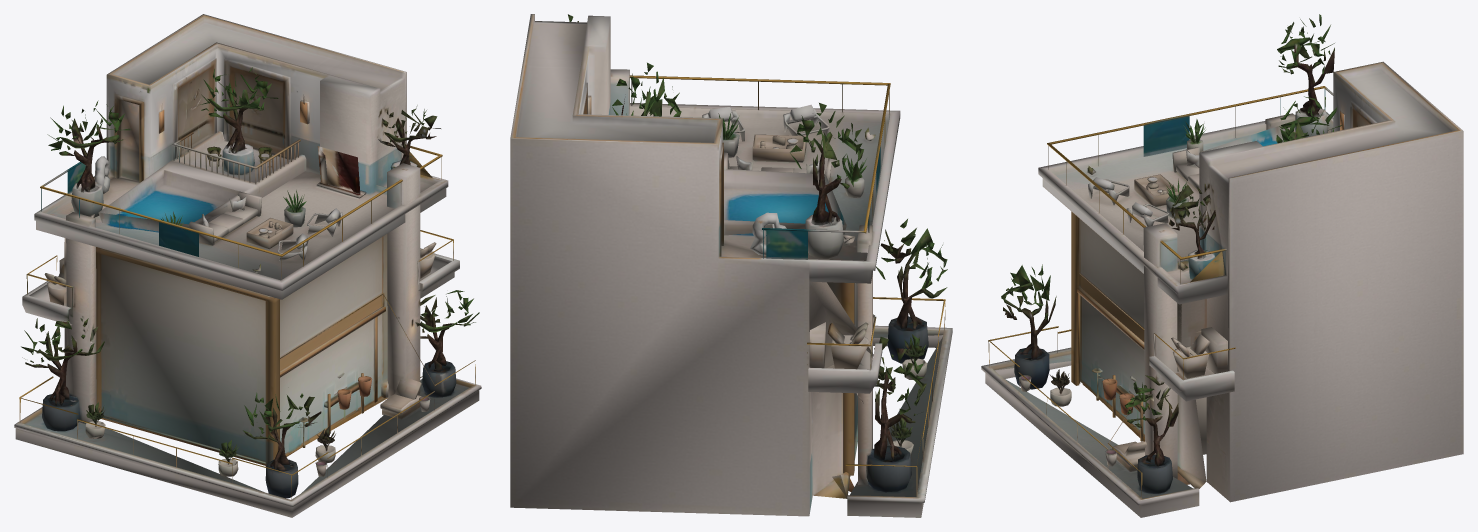
Rendered from tier4.glb.
The picture shows the model from 3 angles, left to right: view 1: azimuth 30°, elevation 25°; view 2: azimuth 150°, elevation 25°; view 3: azimuth 270°, elevation 25°; orthographic projection. The views are drawn at different scales.
Visible parts, largest first — view 1: tripo_node_b06de0a2-eb36-4b9d-8cd9-e53bd1b69414; view 2: tripo_node_b06de0a2-eb36-4b9d-8cd9-e53bd1b69414; view 3: tripo_node_b06de0a2-eb36-4b9d-8cd9-e53bd1b69414.
Boxes of the visible parts, x1,y1,x2,y2 form: tripo_node_b06de0a2-eb36-4b9d-8cd9-e53bd1b69414: (14,14,481,517); tripo_node_b06de0a2-eb36-4b9d-8cd9-e53bd1b69414: (510,14,952,517); tripo_node_b06de0a2-eb36-4b9d-8cd9-e53bd1b69414: (981,14,1463,517).
Size of the model in its own units: 1.27 by 0.9863 by 1.29.
Materials: 1 (1 with a texture image).
